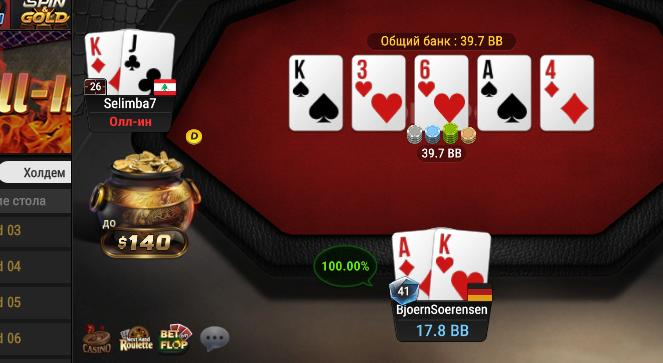3h: (352, 56, 404, 129)
4d: (540, 56, 594, 131)
6h: (415, 56, 469, 128)
Ad: (390, 230, 432, 300)
As: (478, 56, 531, 131)
Jc: (122, 29, 176, 94)
Kd: (84, 31, 122, 97)
Kh: (432, 227, 491, 300)
Ks: (290, 55, 343, 132)
